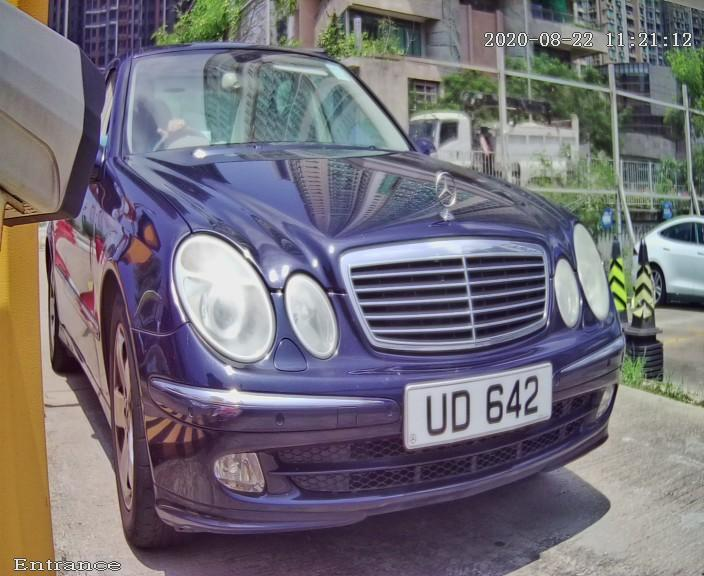Car: (32, 3, 654, 574)
License Plate: (371, 338, 565, 462)
